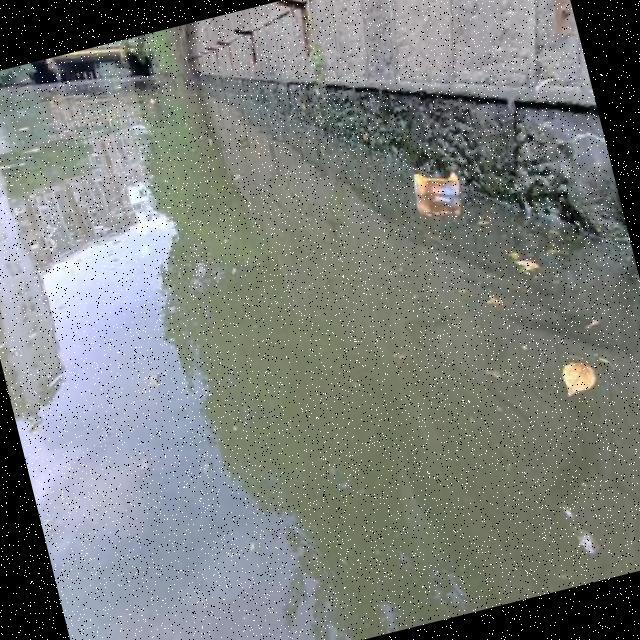Waste: (406, 169, 464, 206)
